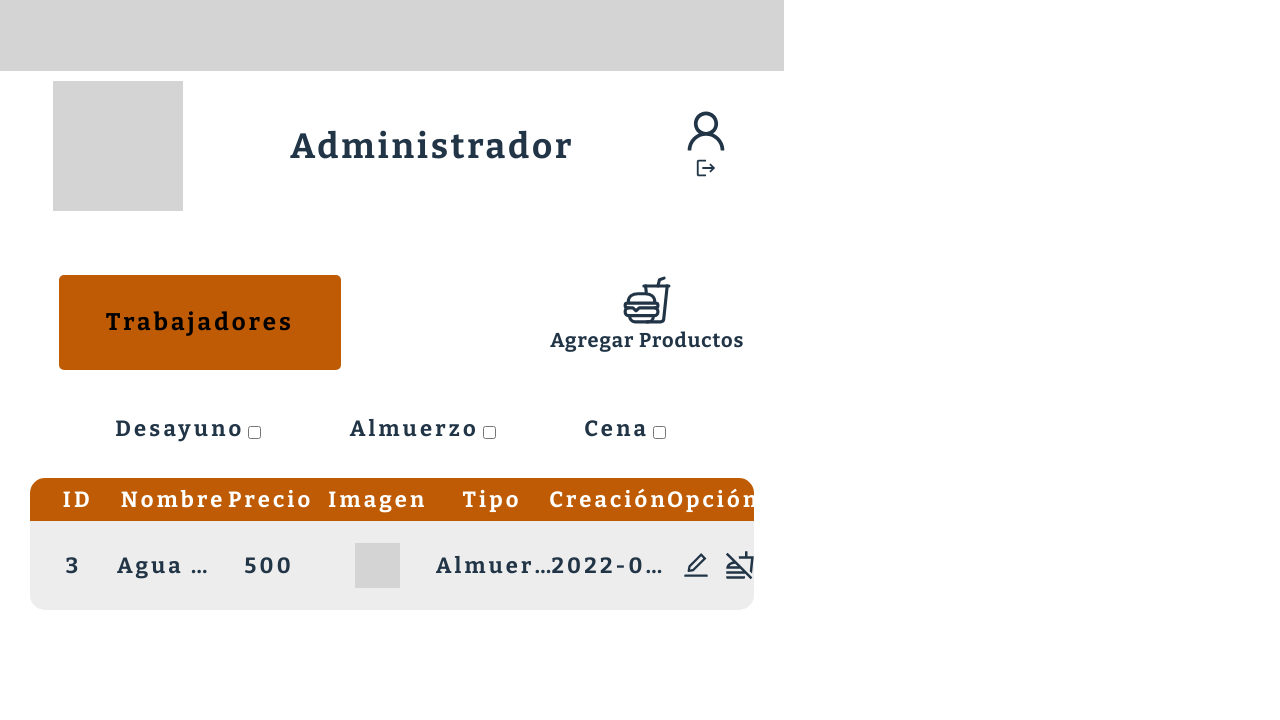
Scenario: Products component › have a button for delete product
(page scrolled)
expect the element with test id "tableProducts" is shown: met, box [30, 478, 754, 690]
Click the icon with test id "deleteProduct".
click(740, 565)  # box [725, 550, 755, 580]
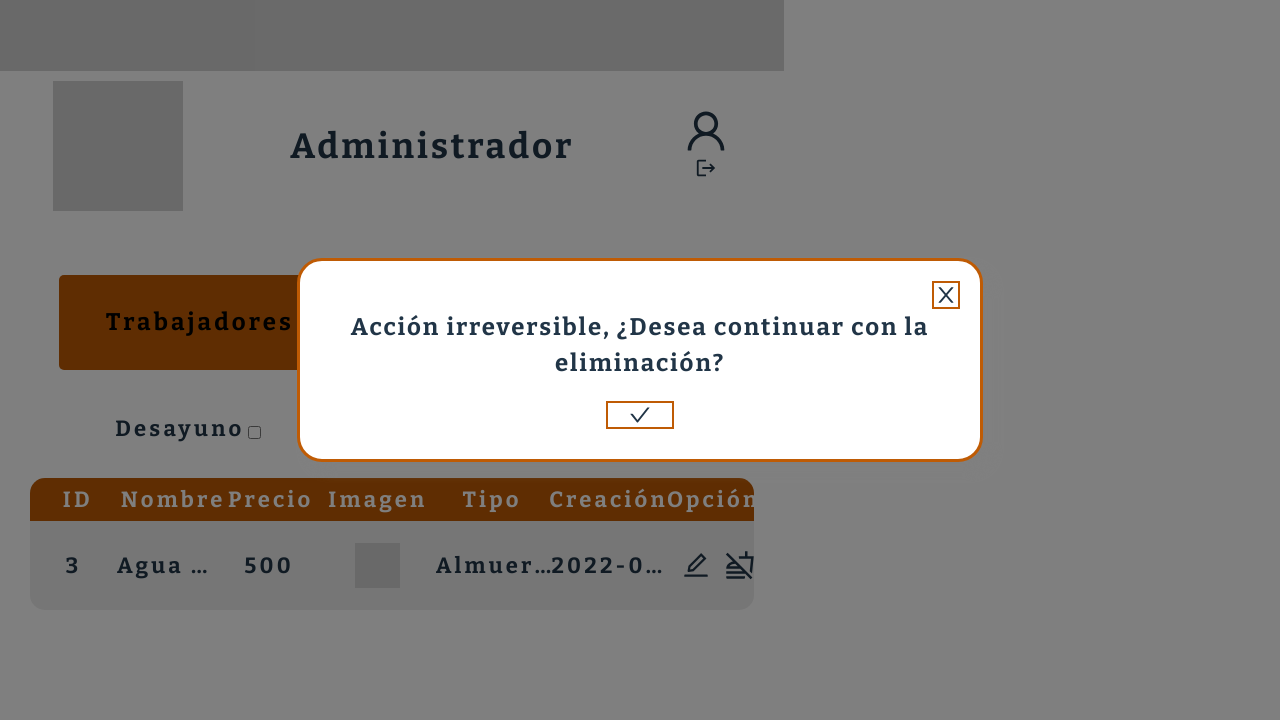
expect the element with id "modalDelete" is shown: met
